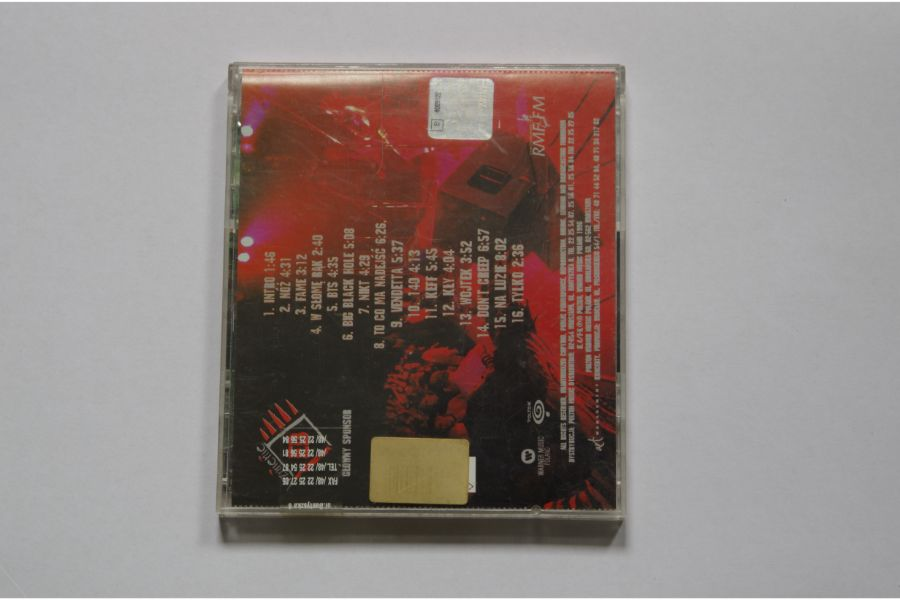album: (216, 63, 631, 528)
